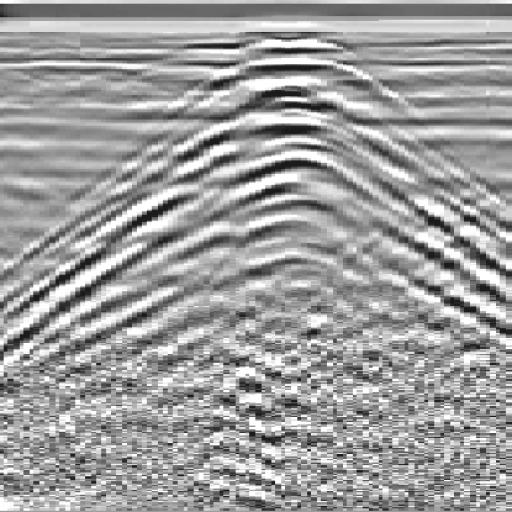metalic: (60, 29, 506, 410)
